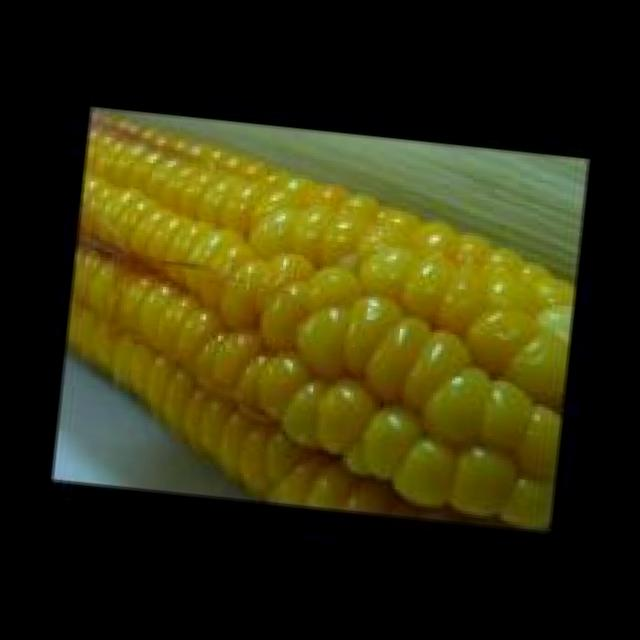corn: (66, 110, 572, 537)
